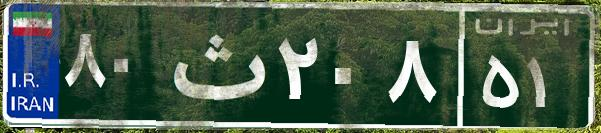0: (330, 28, 385, 110), (110, 28, 158, 105)
1: (525, 38, 570, 115)
2: (273, 28, 330, 110)
5: (475, 38, 525, 113)
8: (385, 28, 445, 110), (57, 26, 110, 107)
ث: (158, 15, 273, 115)
